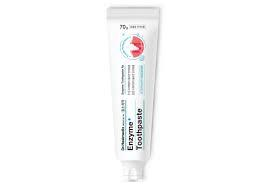toothpaste: (105, 5, 165, 186)
